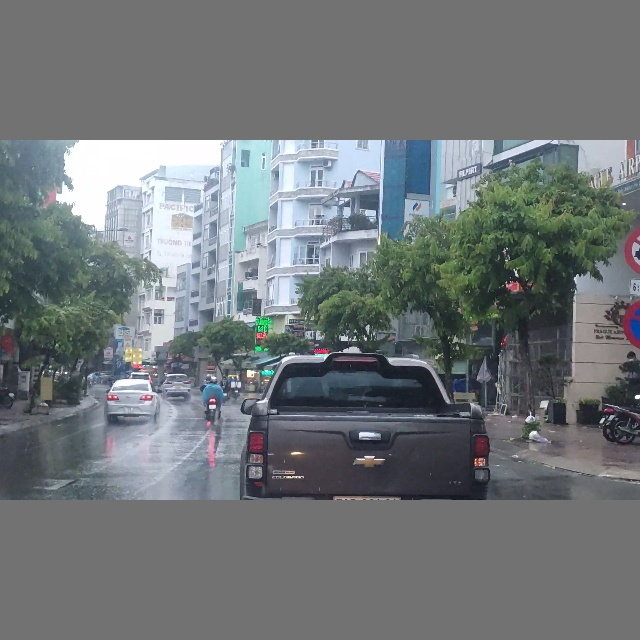P.131a: (622, 297, 640, 351)
